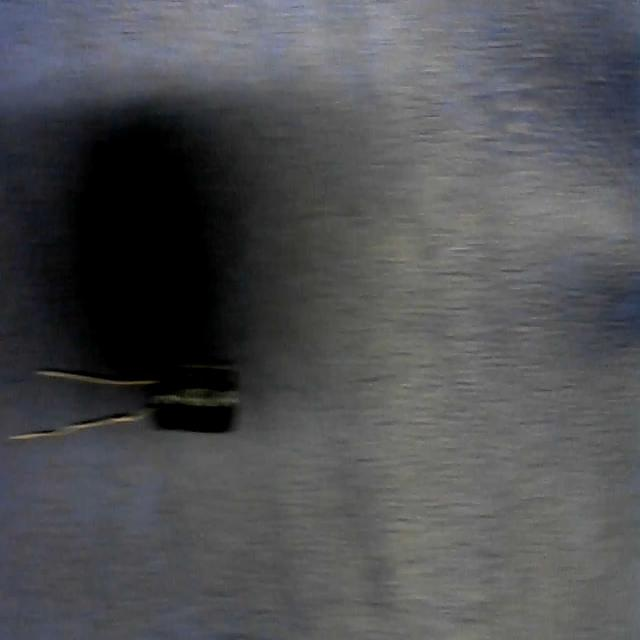capacitor: (8, 361, 238, 443)
